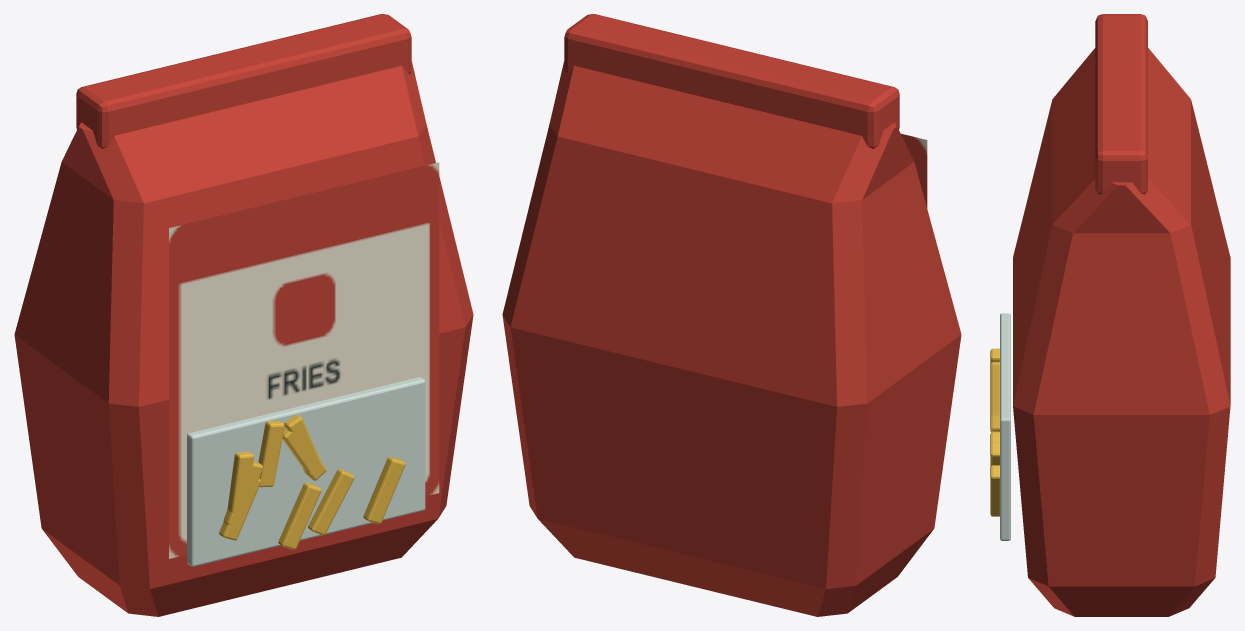
The model's file is fries.fbx.
3 views of the same model, side by side, from view 1: azimuth 30°, elevation 25°; view 2: azimuth 150°, elevation 25°; view 3: azimuth 270°, elevation 25° (orthographic). The views are drawn at different scales.
Visible parts, largest first — view 1: fries; view 2: fries; view 3: fries.
Part boxes in pixels (x1=…): fries: x1=14, y1=14, x2=473, y2=616; fries: x1=502, y1=14, x2=961, y2=616; fries: x1=990, y1=14, x2=1230, y2=616.
Size of the model in its own units: 21 by 27.67 by 12.8.
